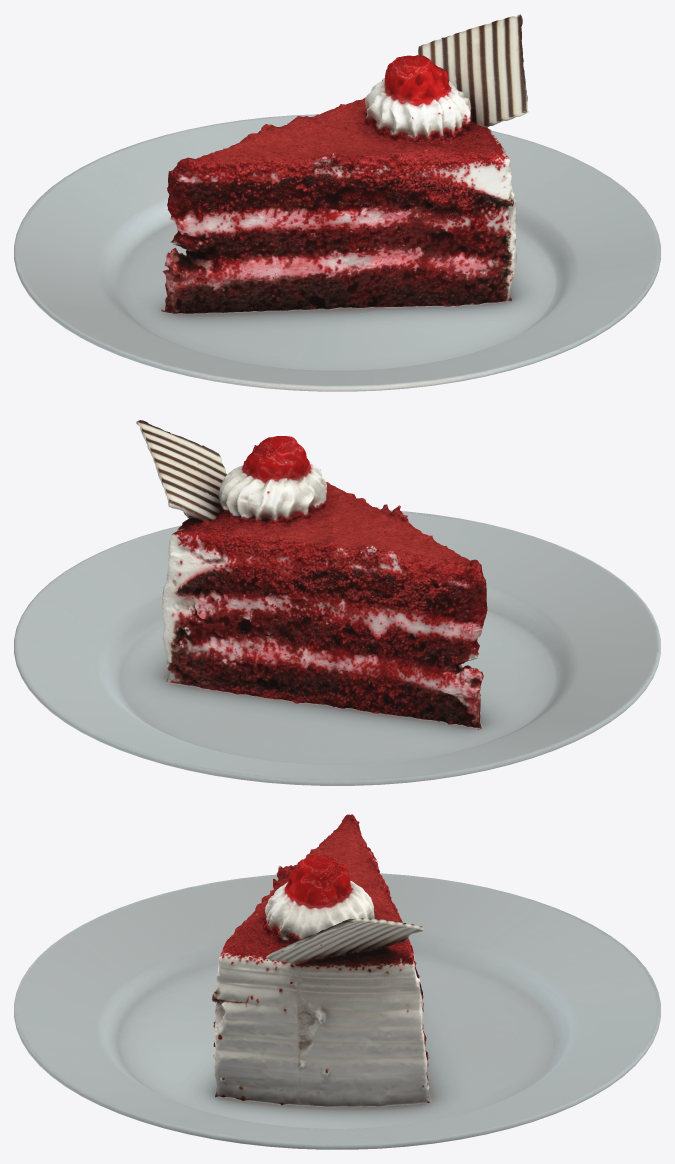
Rendered from redvelvet2mb.glb.
3 renders of one model, top to bottom at view 1: azimuth 30°, elevation 25°; view 2: azimuth 150°, elevation 25°; view 3: azimuth 270°, elevation 25°, orthographic.
Parts seen in each view (by area): view 1: Object_2, Object_3; view 2: Object_2, Object_3; view 3: Object_2, Object_3.
Part boxes in pixels (x1=…): Object_2: x1=14, y1=114, x2=660, y2=391; Object_3: x1=161, y1=14, x2=528, y2=313; Object_2: x1=14, y1=510, x2=660, y2=785; Object_3: x1=136, y1=420, x2=487, y2=729; Object_2: x1=14, y1=873, x2=660, y2=1149; Object_3: x1=212, y1=814, x2=429, y2=1106.
Bounding box in the file's own units: 0.2888 × 0.111 × 0.2888.
Materials: 1 (1 with a texture image).
